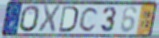3: (99, 7, 118, 33)
6: (119, 6, 138, 34)
C: (78, 6, 100, 33)
D: (58, 5, 79, 33)
O: (19, 5, 41, 34)
X: (37, 4, 62, 34)
